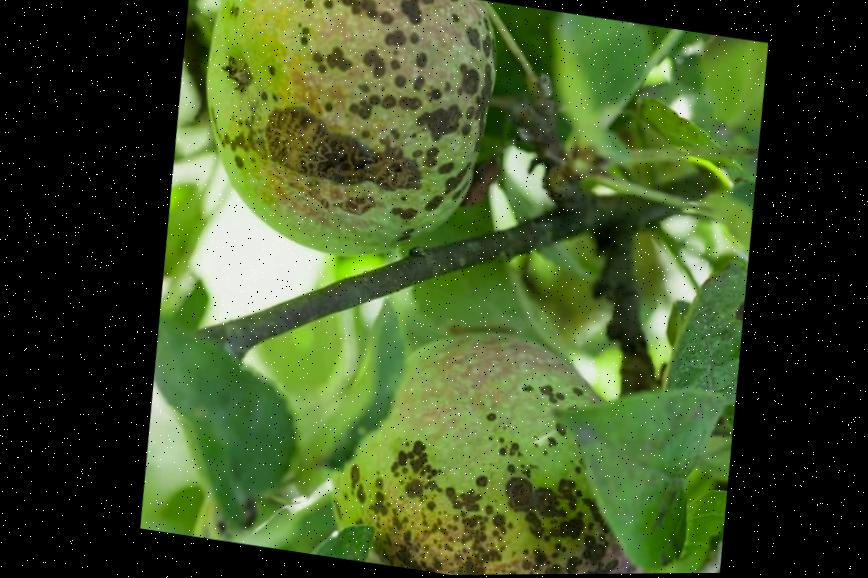SCAB: (261, 294, 721, 576), (152, 0, 553, 292)
